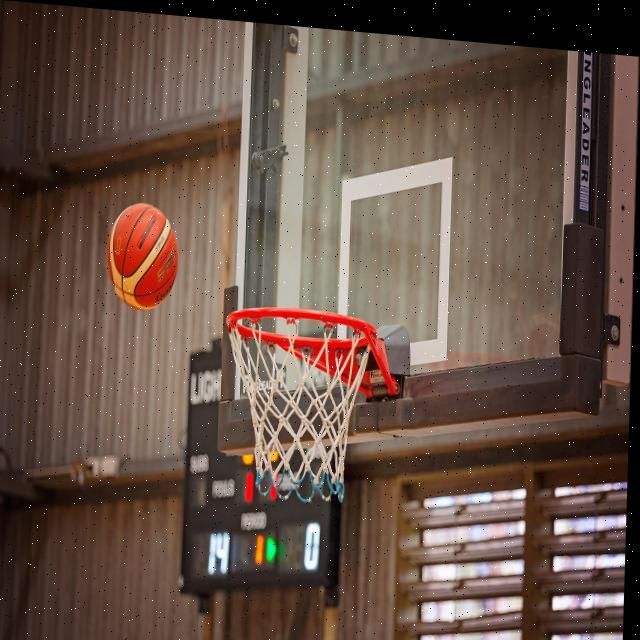Basketball: (108, 199, 179, 311)
